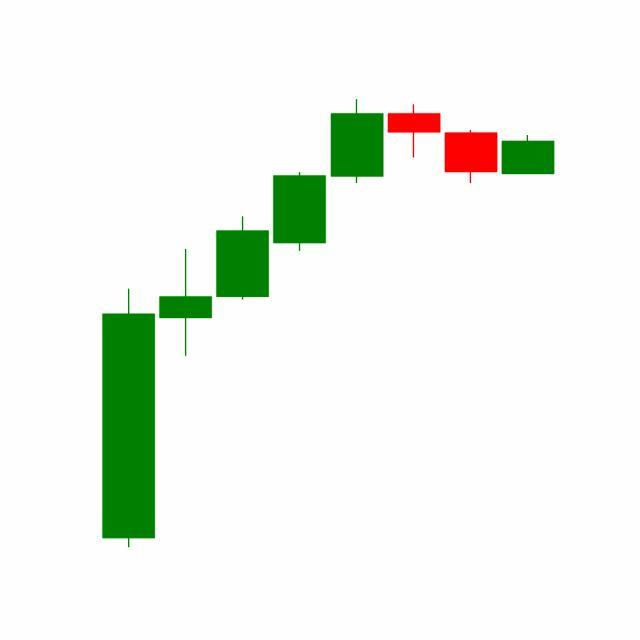Hikkake Pattern: (214, 100, 501, 305)
